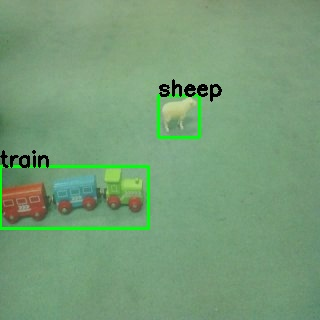sheep: (158, 93, 200, 137)
train: (1, 165, 150, 226)
